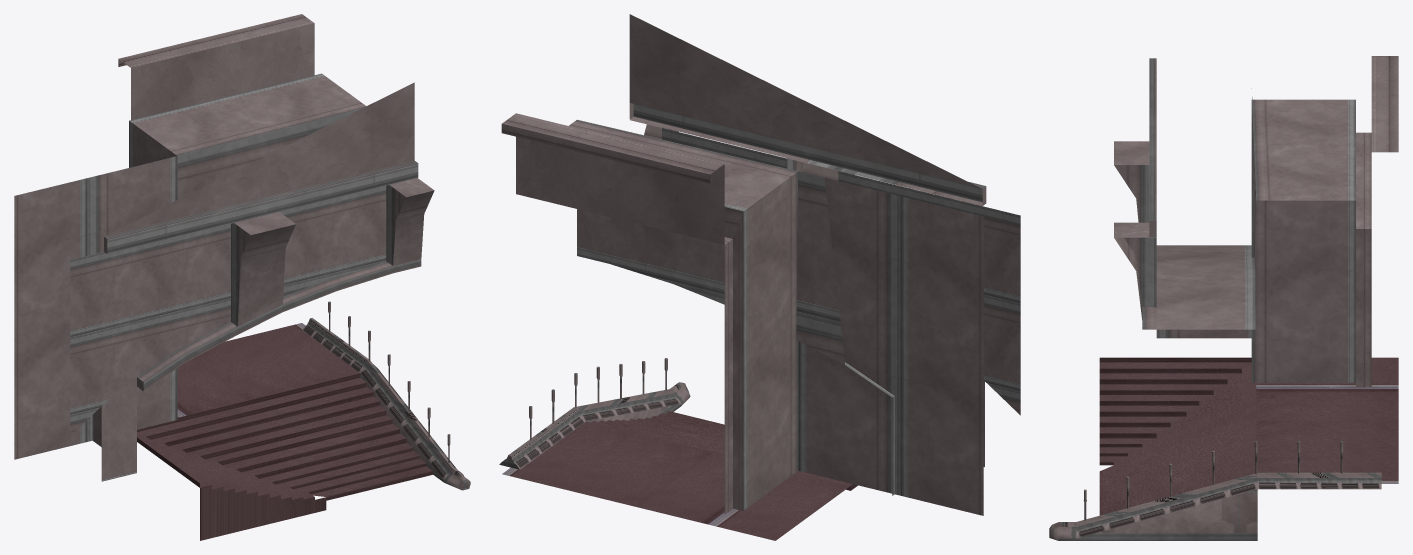
The model's file is Cor1_bldg_Grand_hall_mainstair_1.fbx.
3 views of the same model, side by side, from view 1: azimuth 30°, elevation 25°; view 2: azimuth 150°, elevation 25°; view 3: azimuth 270°, elevation 25° (orthographic). The views are drawn at different scales.
Parts seen in each view (by area): view 1: polymsh1310, artssss, main_stair_1, roof_exit_1, polymsh1121, polymsh1159; view 2: artssss, polymsh1310, roof_exit_1, main_stair_1, polymsh1121, polymsh1159; view 3: artssss, main_stair_1, polymsh1310, polymsh1121, roof_exit_1, polymsh1159.
Part boxes in pixels (box(x1,y1,x2,y2)): polymsh1310: box(70, 110, 434, 481); artssss: box(14, 14, 365, 459); main_stair_1: box(137, 323, 433, 540); roof_exit_1: box(104, 82, 418, 253); polymsh1121: box(302, 318, 470, 490); polymsh1159: box(328, 301, 450, 462); artssss: box(501, 113, 983, 515); polymsh1310: box(577, 119, 1020, 495); roof_exit_1: box(629, 14, 986, 205); main_stair_1: box(502, 411, 857, 540); polymsh1121: box(499, 382, 690, 469); polymsh1159: box(529, 358, 667, 440); artssss: box(1251, 56, 1398, 387); main_stair_1: box(1099, 357, 1398, 515); polymsh1310: box(1114, 88, 1256, 338); polymsh1121: box(1049, 472, 1381, 540); roof_exit_1: box(1149, 58, 1156, 236); polymsh1159: box(1083, 441, 1343, 520).
Size of what is drawn, in the model's own units: 3189 by 3165 by 2453.
